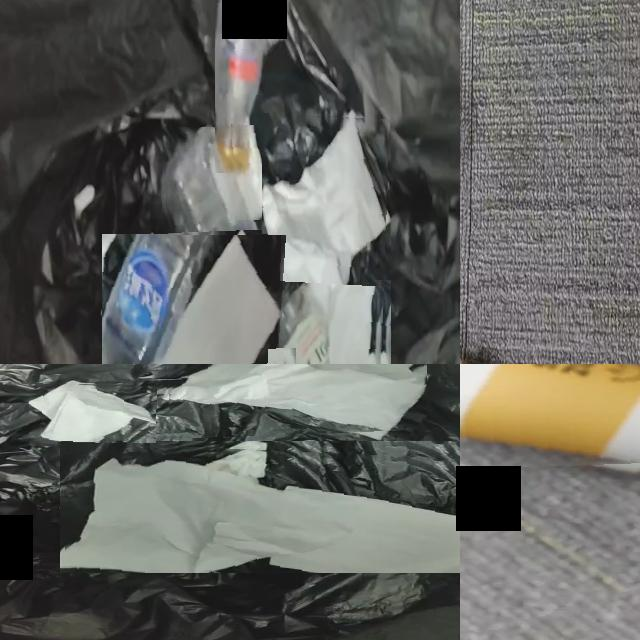bottle: (164, 127, 280, 364), (215, 0, 271, 173), (276, 282, 341, 364)
dixie_cup: (460, 364, 640, 465)
paper: (65, 448, 460, 573), (262, 117, 386, 364), (168, 364, 427, 433), (161, 235, 282, 364), (29, 383, 157, 443), (234, 125, 264, 220), (284, 349, 296, 364)
